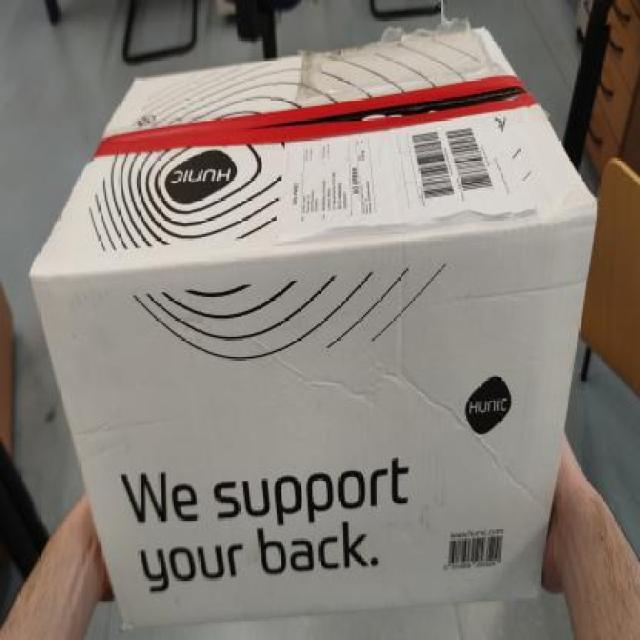box: (29, 23, 600, 603)
